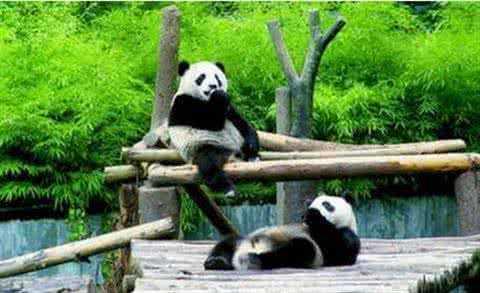panda: (207, 189, 361, 281), (168, 58, 260, 210)
